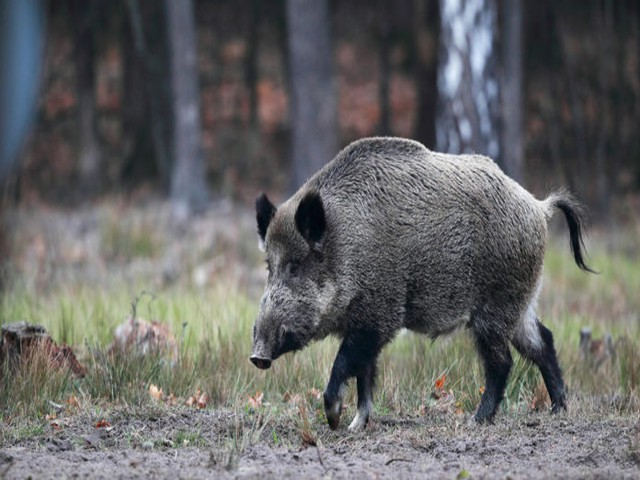Pig: (245, 129, 594, 424)
